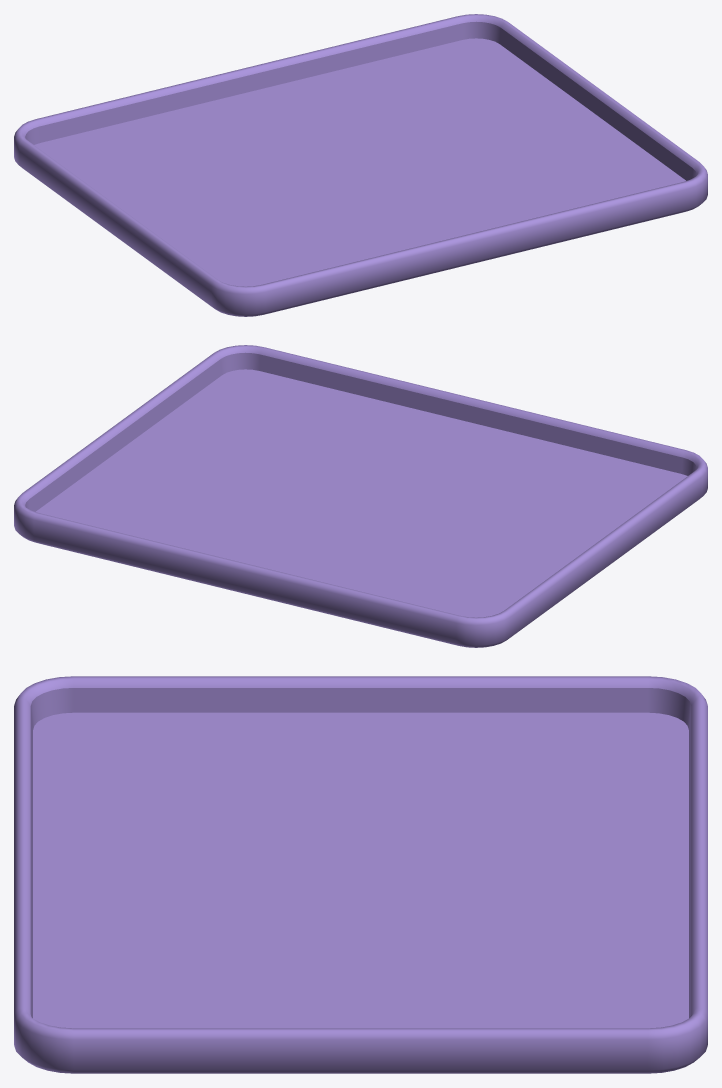
Rendered from SM_PackingTray.glb.
The picture shows the model from 3 angles, top to bottom: view 1: azimuth 30°, elevation 25°; view 2: azimuth 150°, elevation 25°; view 3: azimuth 270°, elevation 25°; orthographic projection. The views are drawn at different scales.
Parts seen in each view (by area): view 1: SM_PackingTray; view 2: SM_PackingTray; view 3: SM_PackingTray.
Part boxes in pixels (<box>): SM_PackingTray: <box>14,14,707,316</box>; SM_PackingTray: <box>14,345,707,647</box>; SM_PackingTray: <box>14,676,707,1073</box>.
Bounding box in the file's own units: 0.71 × 0.04 × 0.58.
Materials: 1 (1 with a texture image).
